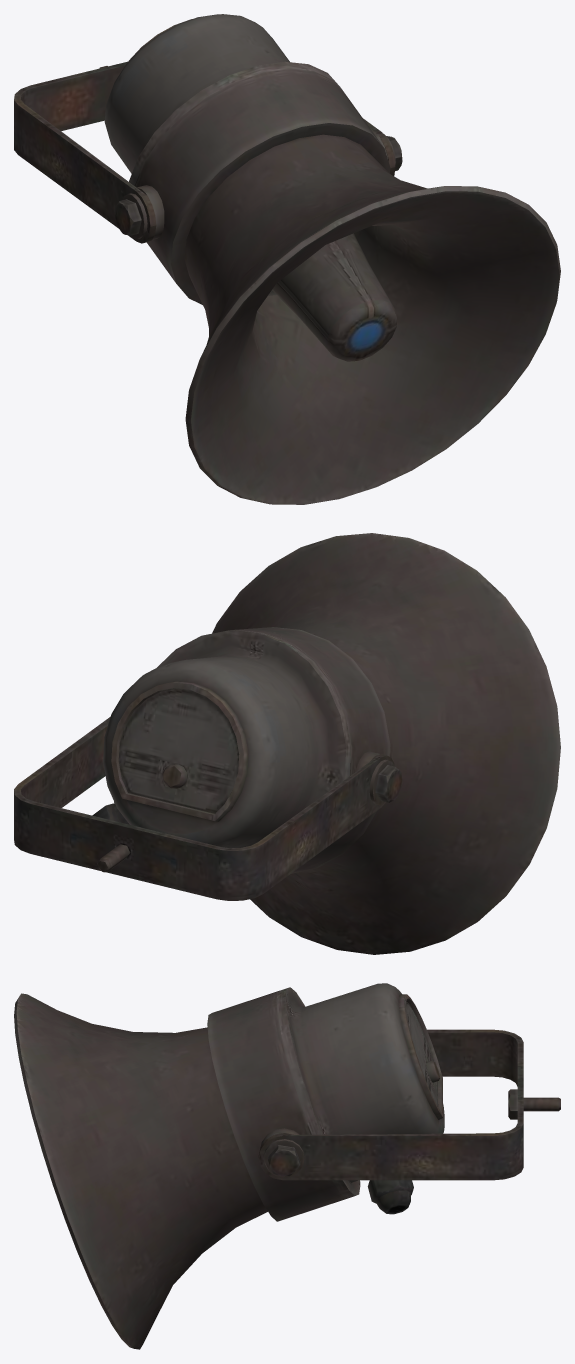
Rendered from security_speaker_small_d.glb.
3 renders of one model, top to bottom at view 1: azimuth 30°, elevation 25°; view 2: azimuth 150°, elevation 25°; view 3: azimuth 270°, elevation 25°, orthographic. The views are drawn at different scales.
Visible parts, largest first — view 1: security_speaker_small_d; view 2: security_speaker_small_d; view 3: security_speaker_small_d.
Boxes of the visible parts, x1,y1,x2,y2 form: security_speaker_small_d: [14, 14, 560, 504]; security_speaker_small_d: [14, 533, 560, 954]; security_speaker_small_d: [14, 983, 560, 1349].
Size of the model in its own units: 0.4245 by 0.4217 by 0.6149.
1 material, 1 textured.
